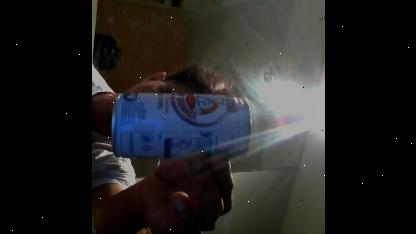Can: (110, 91, 252, 160)
